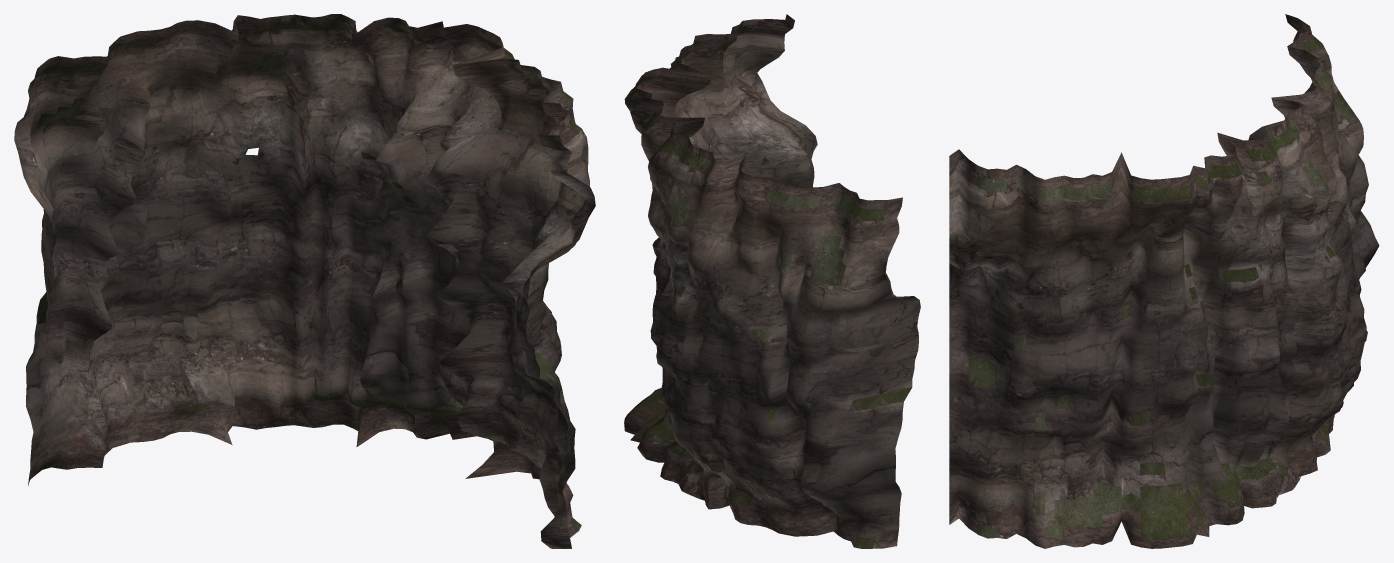
Rendered from cliff_wall_corner_outer_deep.glb.
3 views of the same model, side by side, from view 1: azimuth 30°, elevation 25°; view 2: azimuth 150°, elevation 25°; view 3: azimuth 270°, elevation 25° (orthographic). The views are drawn at different scales.
Parts seen in each view (by area): view 1: cliff_wall_corner_outer_deep; view 2: cliff_wall_corner_outer_deep; view 3: cliff_wall_corner_outer_deep.
Boxes of the visible parts, bbox=[...] form: cliff_wall_corner_outer_deep: bbox=[14, 14, 595, 548]; cliff_wall_corner_outer_deep: bbox=[624, 14, 920, 548]; cliff_wall_corner_outer_deep: bbox=[949, 14, 1379, 548].
Size of the model in its own units: 4.24 by 4.2 by 4.5.
Materials: 2 (2 with a texture image).
